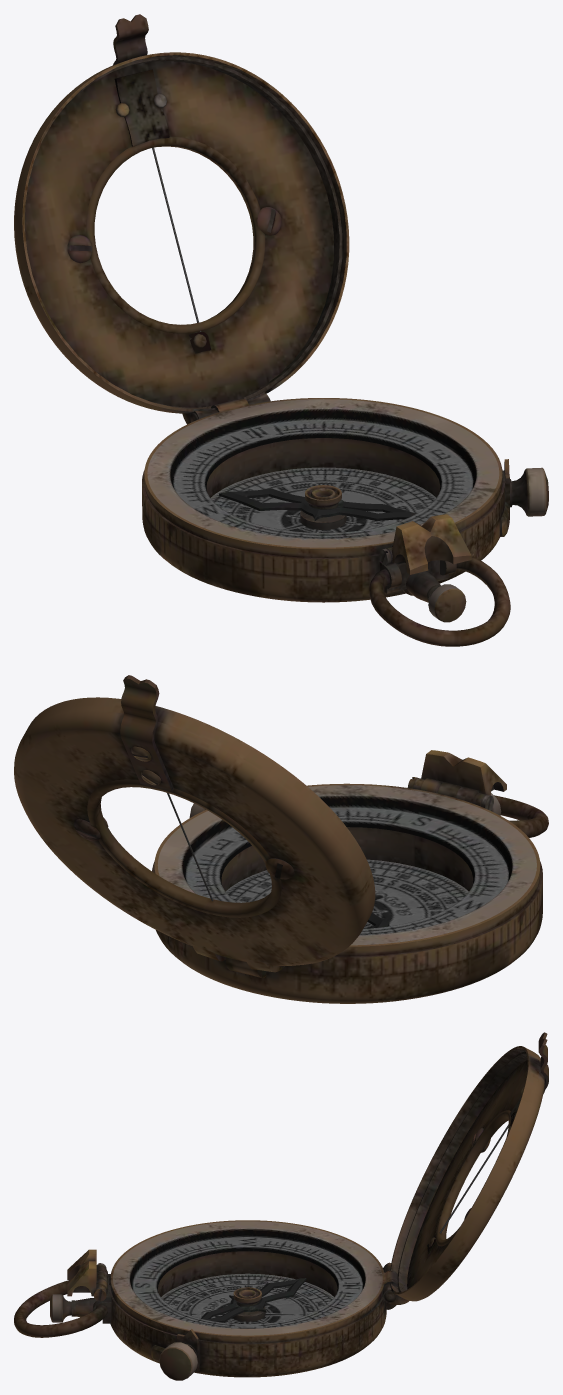
Rendered from seadogs_compass.glb.
The picture shows the model from 3 angles, top to bottom: view 1: azimuth 30°, elevation 25°; view 2: azimuth 150°, elevation 25°; view 3: azimuth 270°, elevation 25°; orthographic projection. The views are drawn at different scales.
Parts seen in each view (by area): view 1: seadogs_compass_lid, seadogs_compass, seadogs_compass_needle; view 2: seadogs_compass_lid, seadogs_compass; view 3: seadogs_compass, seadogs_compass_lid, seadogs_compass_needle.
Boxes of the visible parts, <box> form: seadogs_compass_lid: <box>14,14,349,424</box>; seadogs_compass: <box>142,398,548,646</box>; seadogs_compass_needle: <box>219,488,415,520</box>; seadogs_compass_lid: <box>14,675,375,972</box>; seadogs_compass: <box>152,750,548,1003</box>; seadogs_compass: <box>14,1220,397,1380</box>; seadogs_compass_lid: <box>382,1032,548,1305</box>; seadogs_compass_needle: <box>201,1278,306,1322</box>.
Bounding box in the file's own units: 0.0813 × 0.0866 × 0.1441.
1 material, 1 textured.
